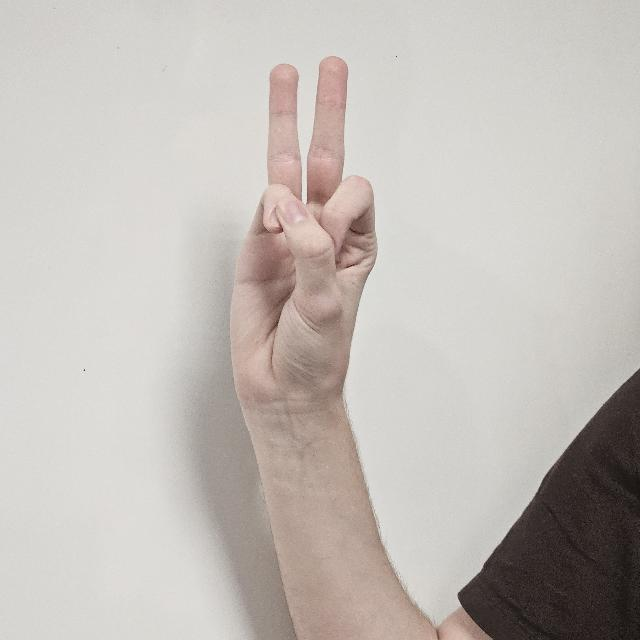R: (226, 52, 378, 432)
